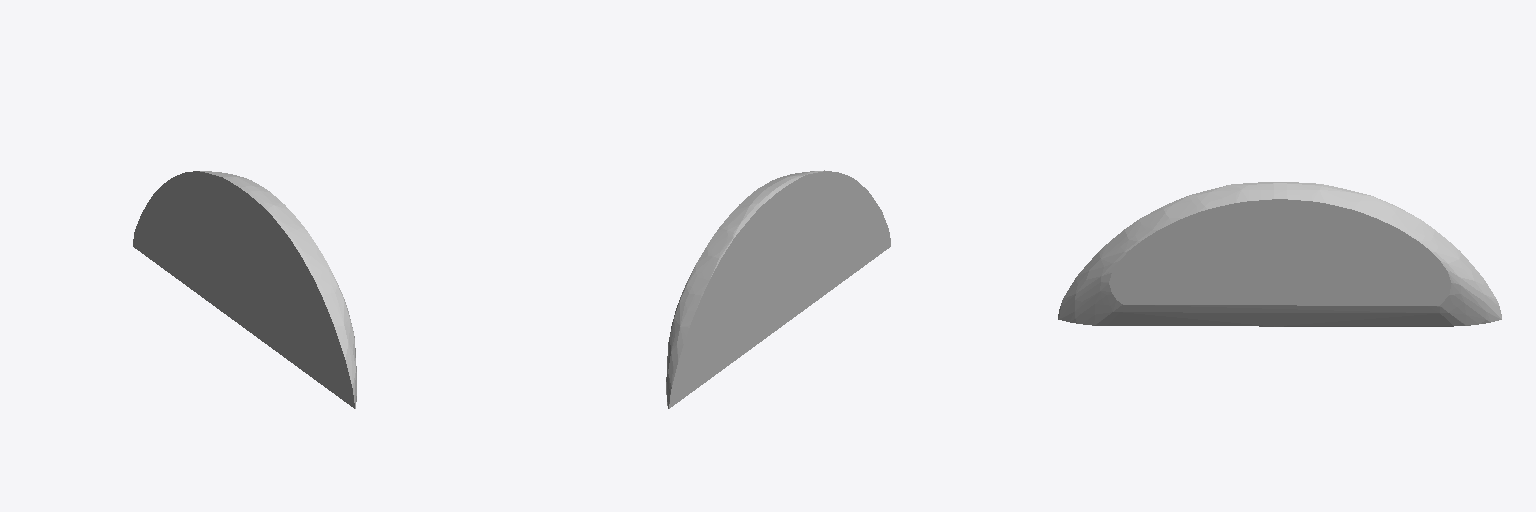
Rendered from weight_4_collision_26.obj.
3 views of the same model, side by side, from view 1: azimuth 30°, elevation 25°; view 2: azimuth 150°, elevation 25°; view 3: azimuth 270°, elevation 25° (orthographic).
Size of the model in its own units: 0.029 by 0.1567 by 0.4589.